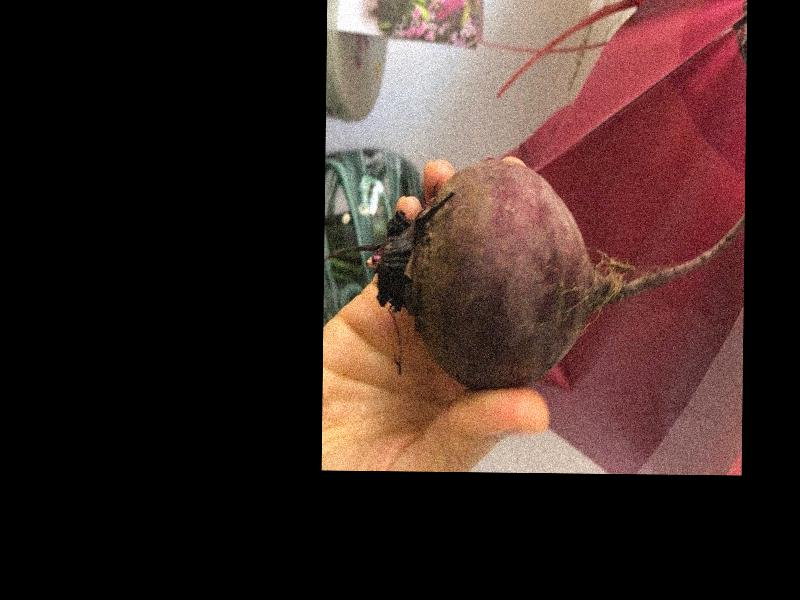Beet: (325, 156, 743, 392)
